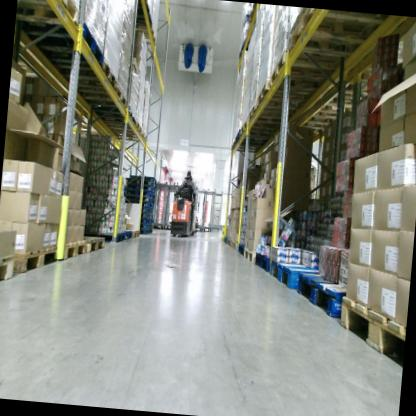pallet: (268, 43, 368, 98), (287, 7, 383, 63), (334, 292, 408, 362), (24, 16, 108, 68), (33, 57, 117, 95), (294, 270, 352, 320), (268, 257, 327, 293), (17, 0, 85, 31), (11, 240, 59, 279), (257, 76, 306, 113), (248, 100, 304, 130), (72, 80, 131, 108), (95, 103, 139, 127), (239, 114, 280, 137), (129, 1, 156, 30), (235, 129, 278, 146), (62, 237, 88, 261), (84, 229, 127, 243), (231, 140, 271, 155), (0, 253, 17, 286), (129, 24, 157, 44), (80, 234, 106, 255), (105, 120, 143, 134), (112, 128, 146, 143), (253, 250, 273, 275), (124, 183, 155, 194), (125, 178, 155, 189), (123, 189, 154, 199), (123, 194, 153, 204), (131, 174, 158, 185), (242, 246, 258, 264), (130, 229, 141, 241), (231, 239, 239, 254), (237, 243, 245, 258), (123, 230, 133, 241), (142, 201, 153, 210), (222, 234, 229, 246), (226, 236, 233, 248), (140, 224, 150, 232), (139, 218, 150, 225), (140, 213, 151, 220), (140, 229, 150, 236), (141, 208, 151, 215), (149, 218, 154, 225), (149, 224, 154, 231), (153, 185, 157, 191), (151, 199, 155, 205), (151, 204, 155, 210), (150, 213, 154, 219), (152, 195, 156, 200), (148, 230, 153, 234), (153, 190, 156, 195), (151, 210, 154, 214)
pallet_truck: (164, 180, 204, 239)
